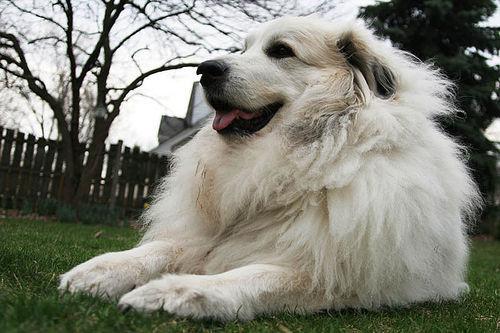dog-great_pyrenees: (194, 16, 398, 141)
